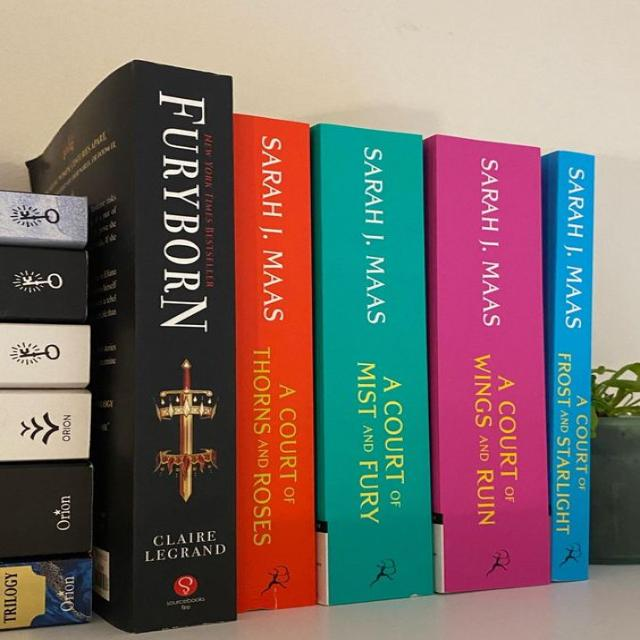book: (135, 61, 235, 632), (322, 125, 435, 606), (434, 135, 550, 595), (235, 111, 318, 611), (553, 152, 594, 581)
